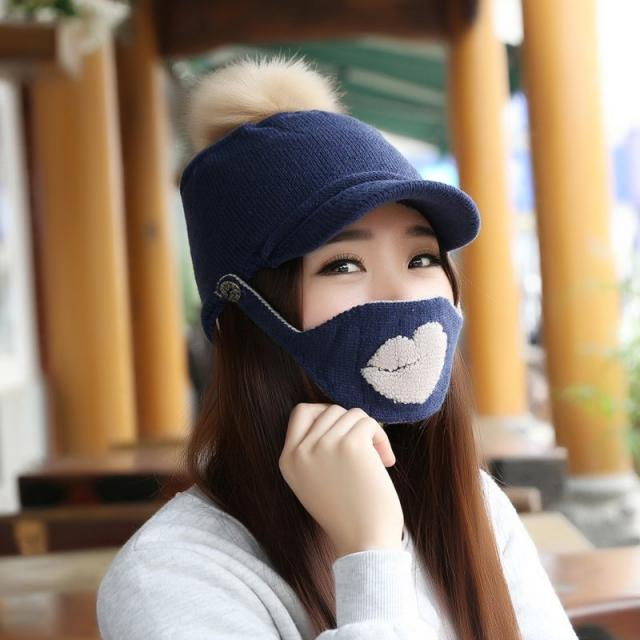mask: (286, 191, 455, 414)
